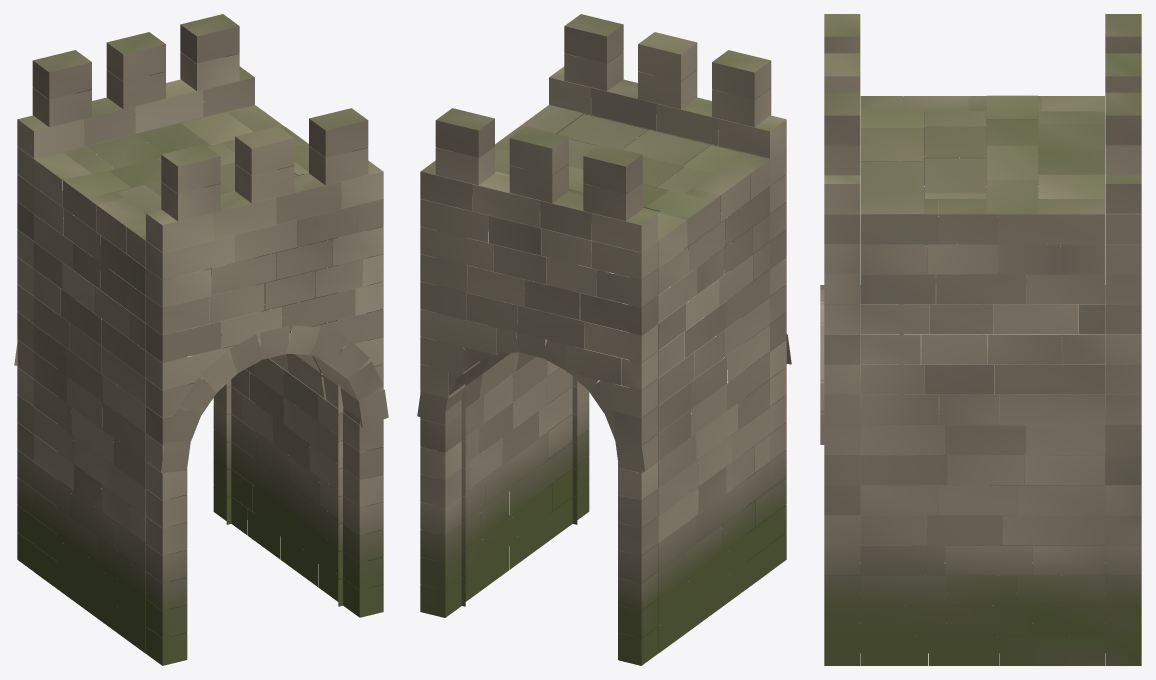
File: citadel_postern_mid.glb
3 views of the same model, side by side, from view 1: azimuth 30°, elevation 25°; view 2: azimuth 150°, elevation 25°; view 3: azimuth 270°, elevation 25° (orthographic). The views are drawn at different scales.
Parts seen in each view (by area): view 1: citadel_postern_mid; view 2: citadel_postern_mid; view 3: citadel_postern_mid.
Part boxes in pixels (left/top/right/bottom): citadel_postern_mid: left=14, top=14, right=388, bottom=665; citadel_postern_mid: left=417, top=14, right=791, bottom=665; citadel_postern_mid: left=820, top=14, right=1141, bottom=665.
Size of the model in its own units: 19.04 by 39.57 by 21.25.
